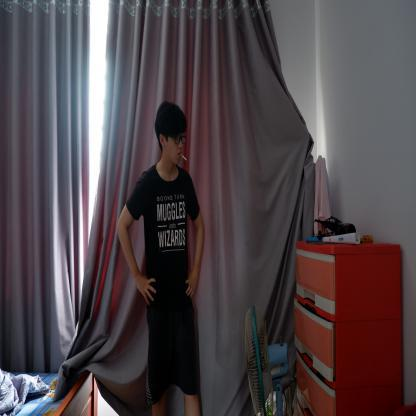cigarette: (180, 153, 187, 161)
person: (115, 100, 208, 415)
